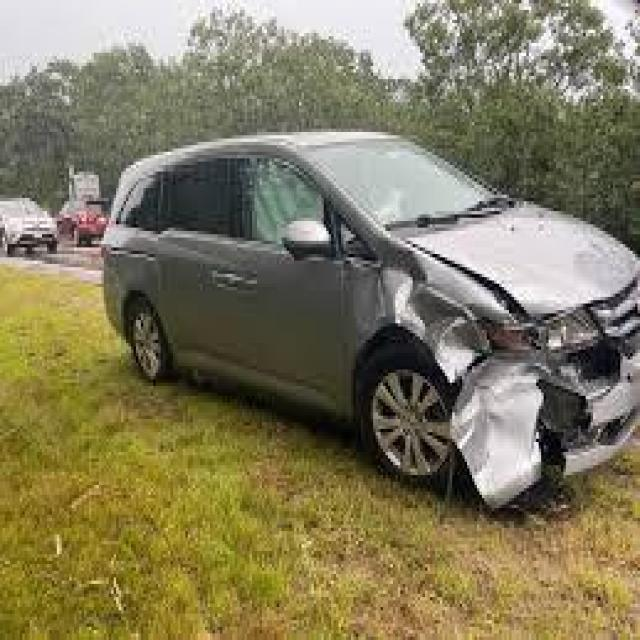damaged: (444, 264, 632, 505), (358, 248, 455, 344)
